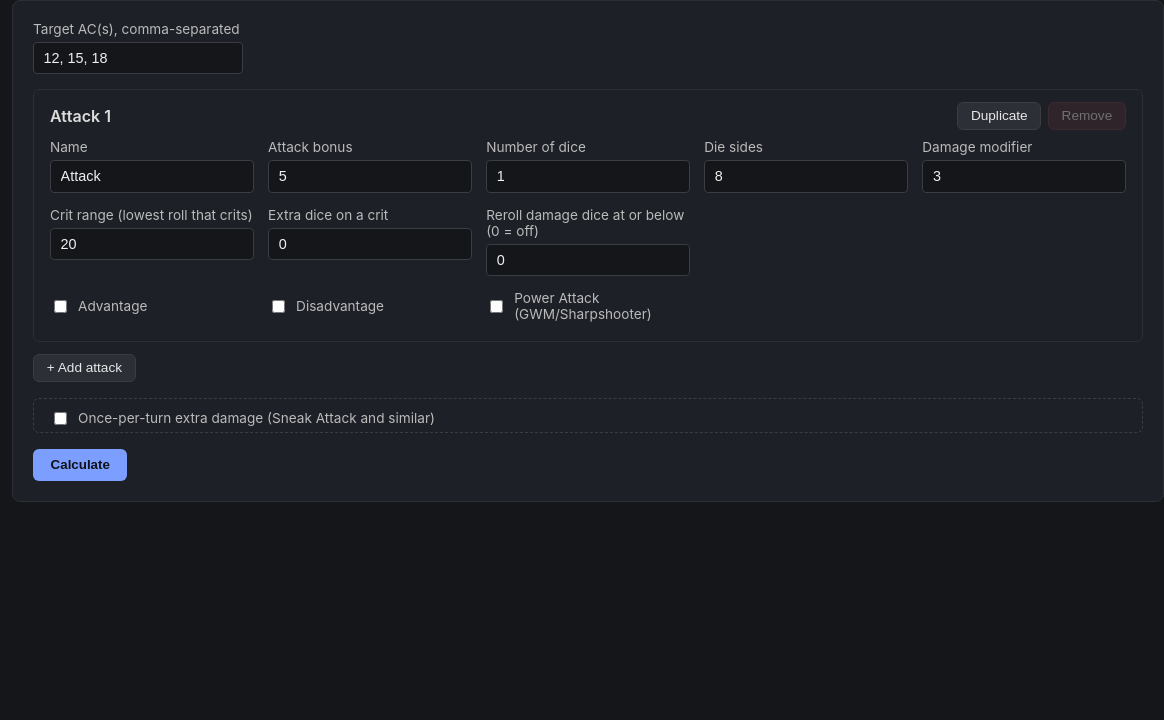
Test case: CalculatorPanel › shows the API error and clears old results
The width and height of the screenshot is (1164, 720).
Click the button "Calculate" at point(80, 465), box [33,449,128,481]
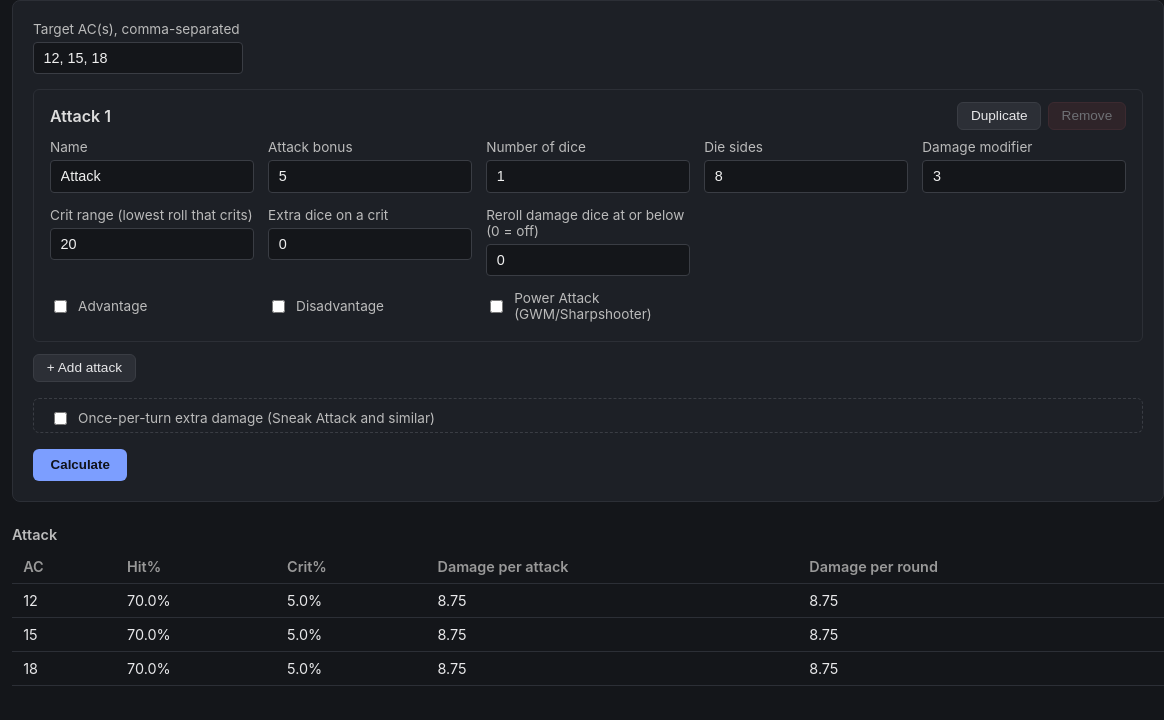
Check: the table is shown, box [12,526,1163,686]
Click the button "Calculate" at point(80, 465), box [33,449,128,481]
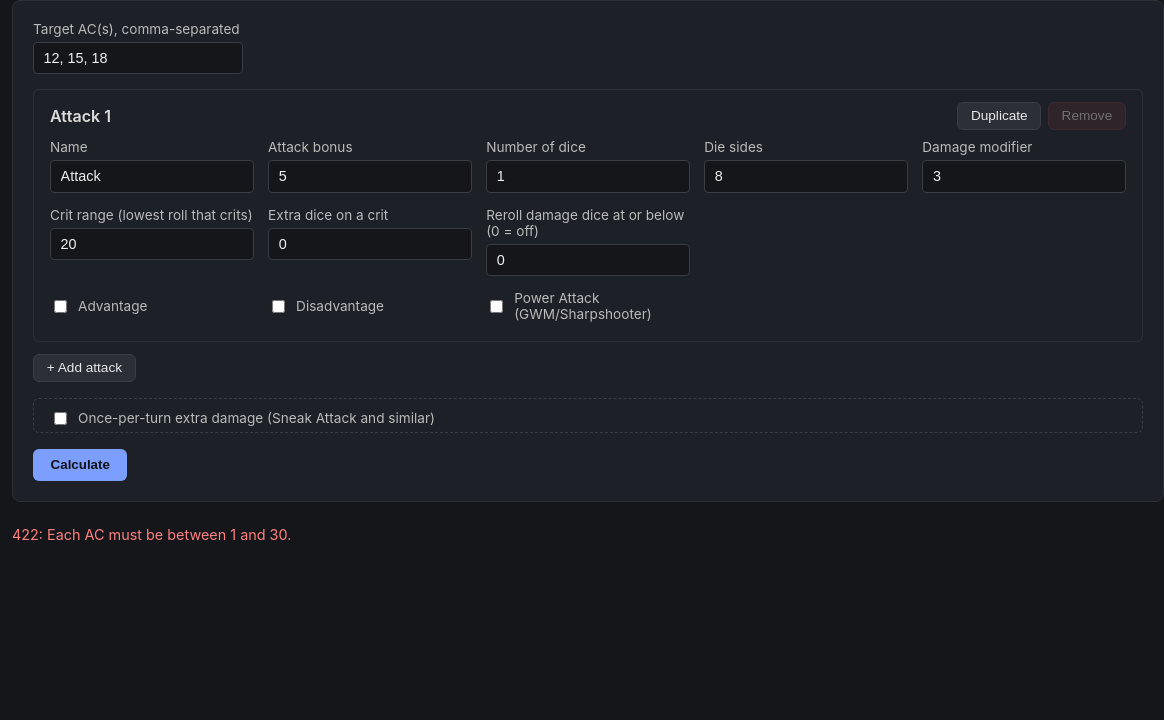
Check: the text "422: Each AC must be between 1 and 30." is shown, box [12,526,291,543]
Check: the table is gone
